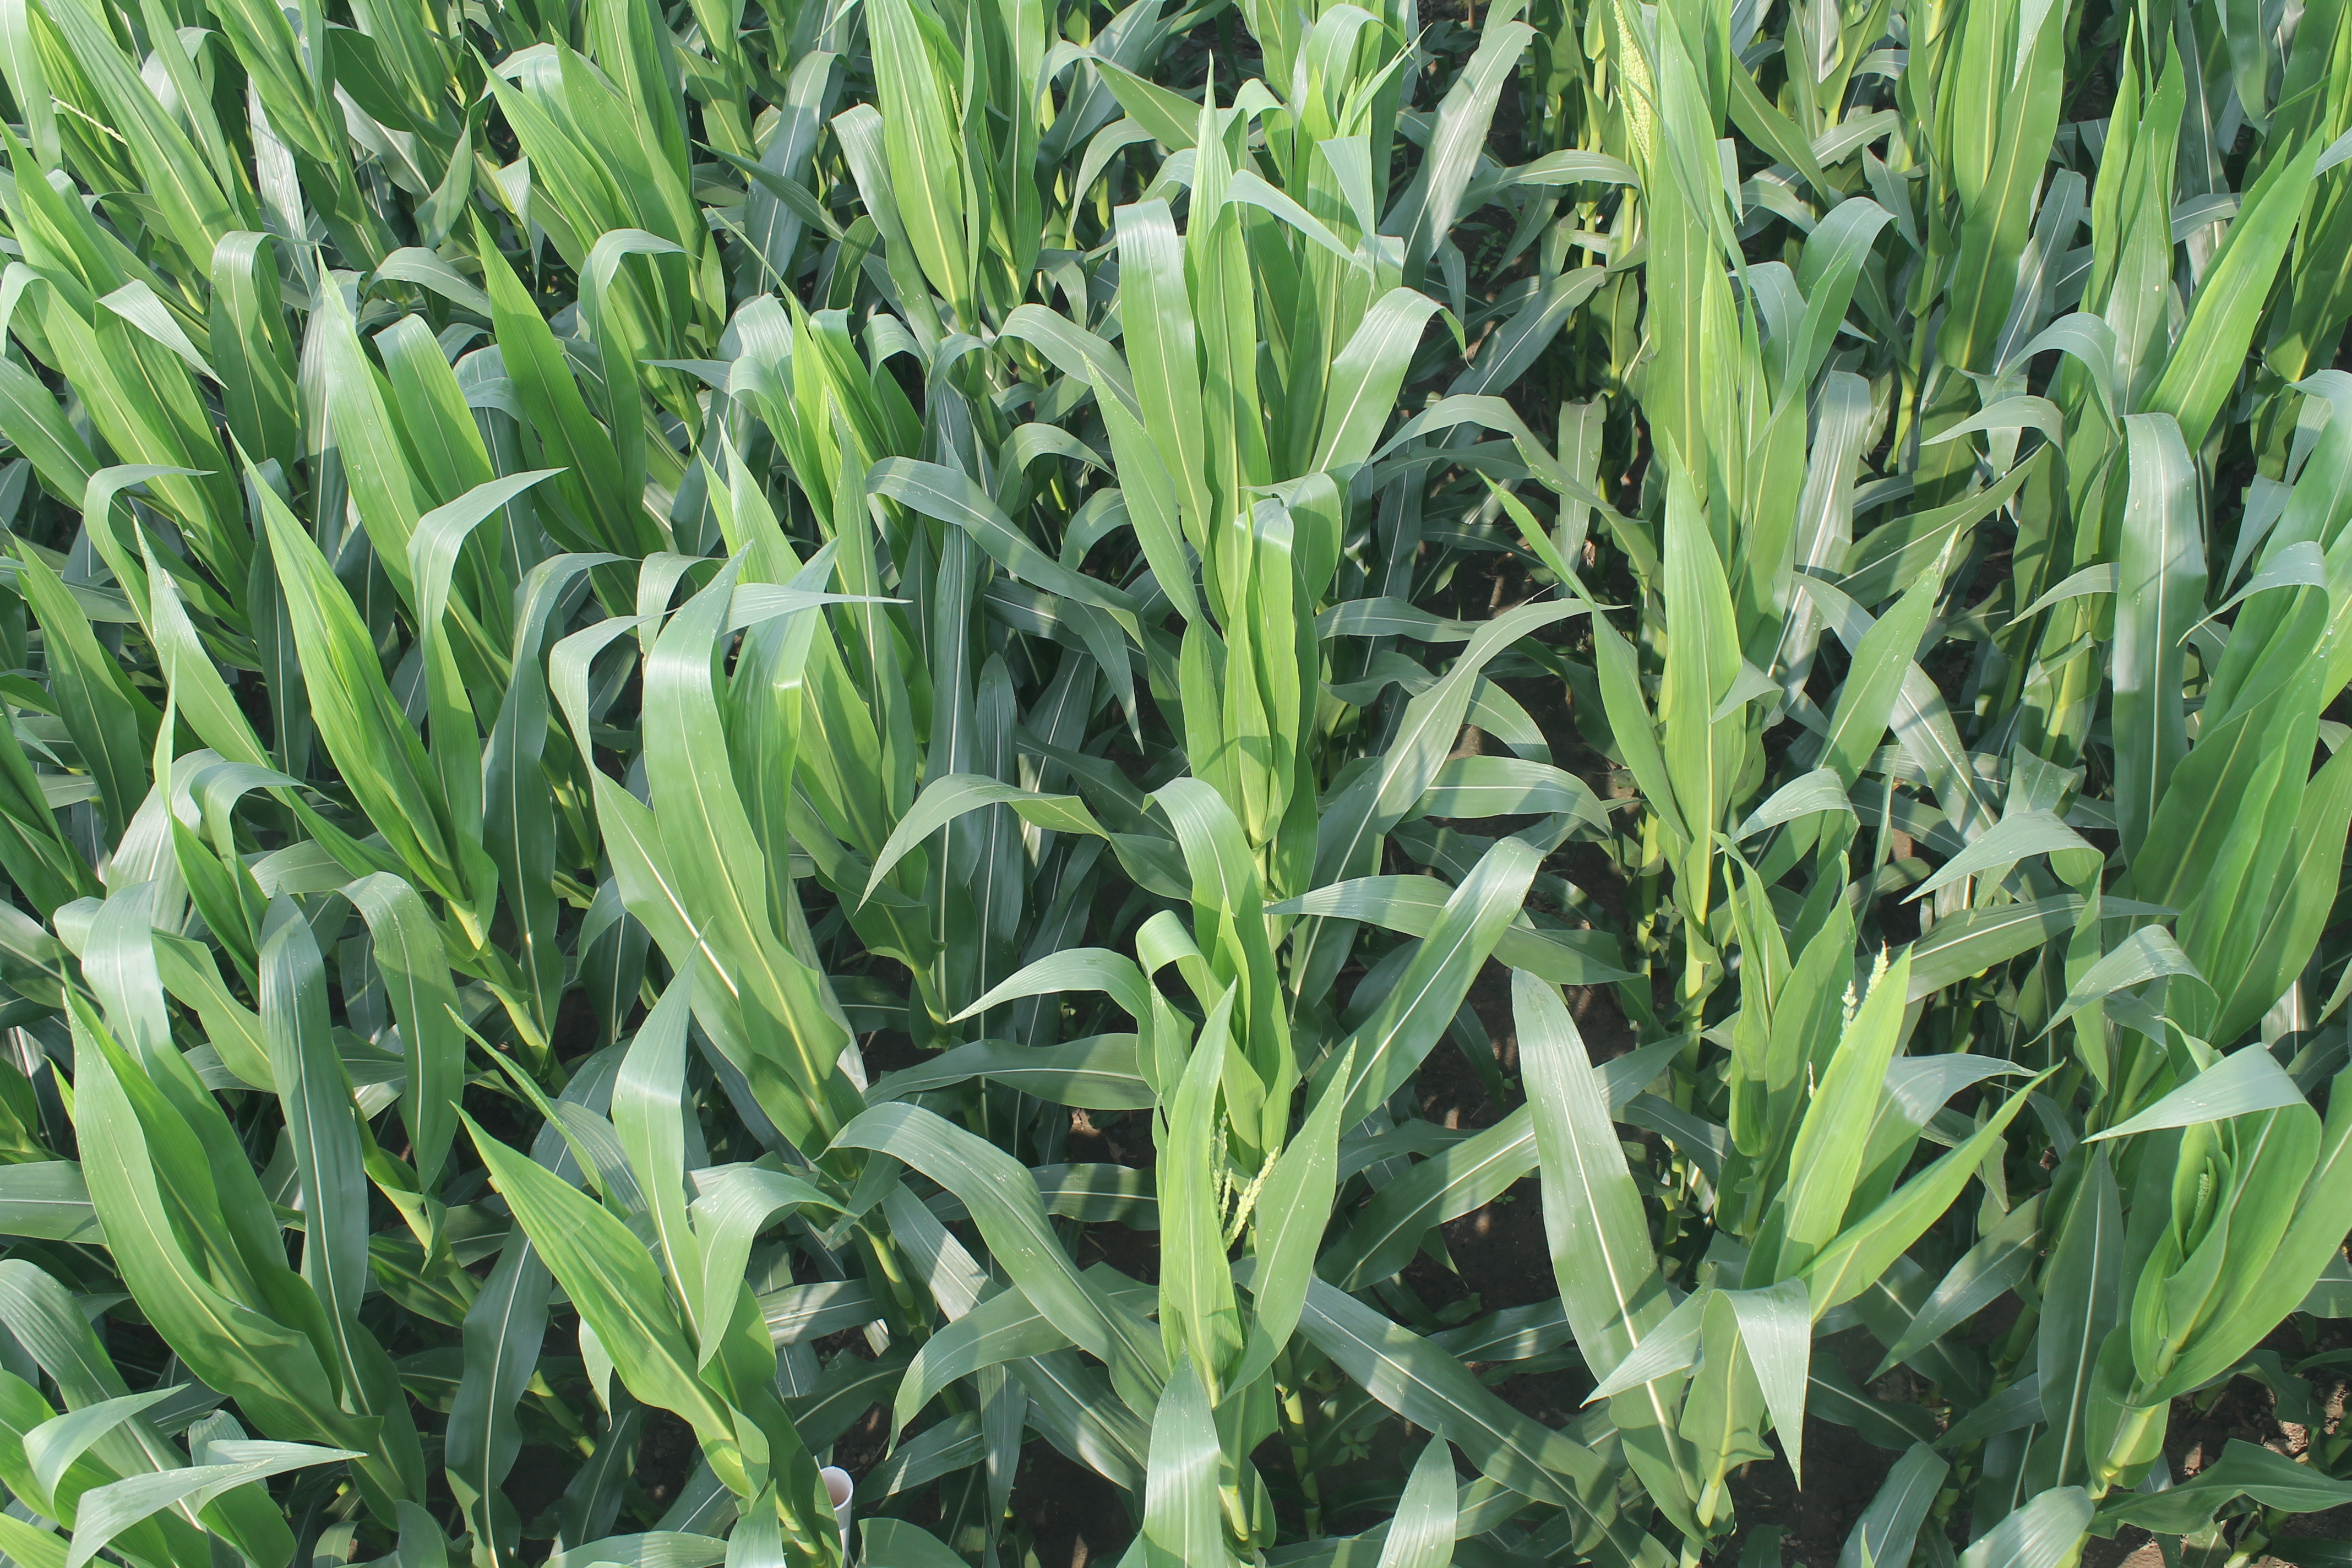Maize: (1200, 1111, 1272, 1256)
